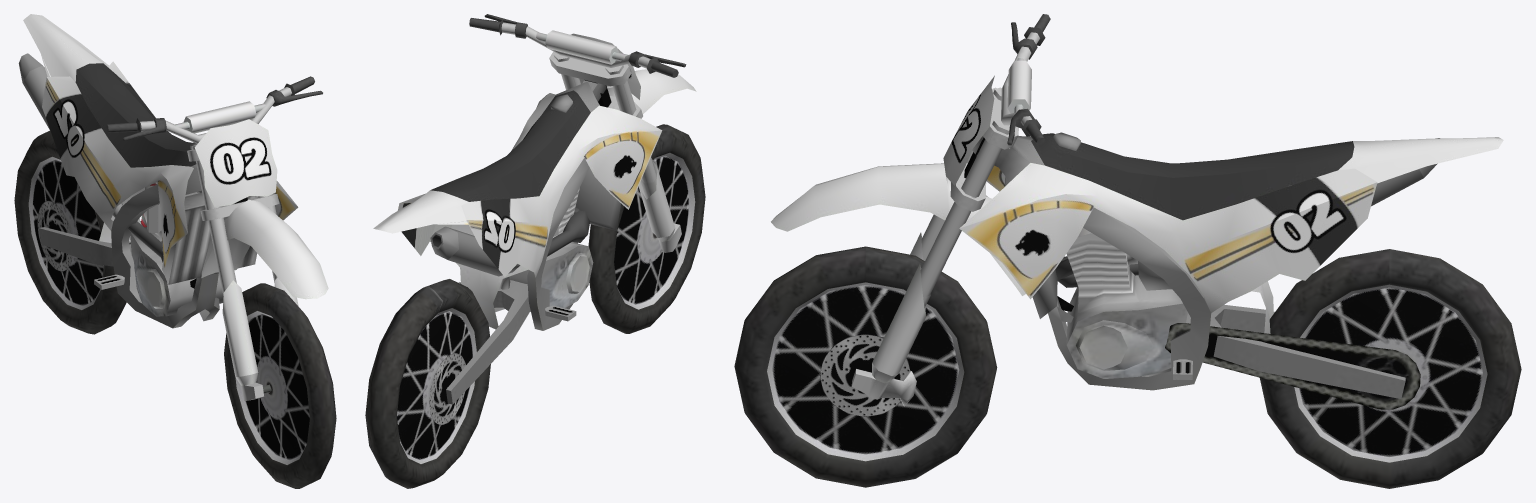
Rendered from dirtbike_white.glb.
3 renders of one model, left to right at view 1: azimuth 30°, elevation 25°; view 2: azimuth 150°, elevation 25°; view 3: azimuth 270°, elevation 25°, orthographic. The views are drawn at different scales.
Visible parts, largest first — view 1: body, wheel_f, wheel_r; view 2: body, wheel_r, wheel_f; view 3: body, wheel_f, wheel_r.
Part boxes in pixels (<box>): body: <box>18,14,328,400</box>; wheel_f: <box>224,283,336,488</box>; wheel_r: <box>14,130,130,334</box>; body: <box>373,14,696,404</box>; wheel_r: <box>365,279,490,488</box>; wheel_f: <box>588,124,705,333</box>; body: <box>771,14,1503,409</box>; wheel_f: <box>734,246,997,487</box>; wheel_r: <box>1260,249,1521,488</box>.
Size of the model in its own units: 0.7842 by 1.21 by 2.09.
Materials: 1 (1 with a texture image).
